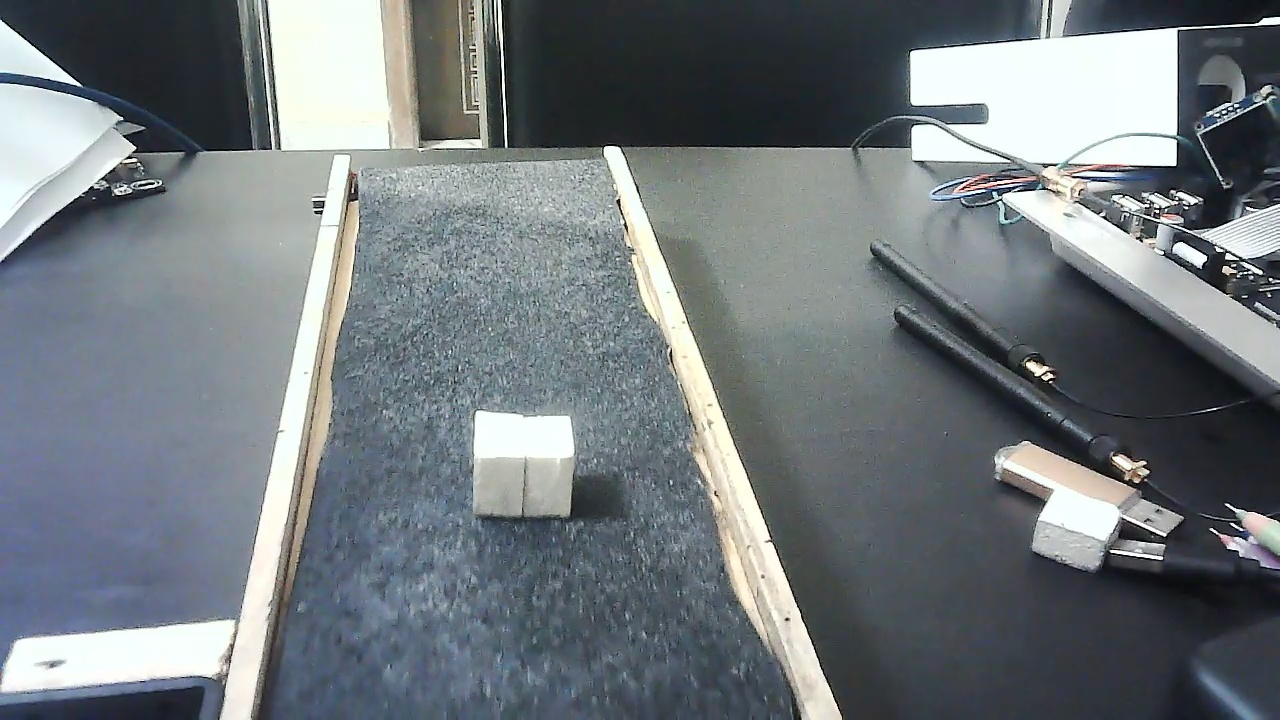Small: (470, 411, 577, 518)
